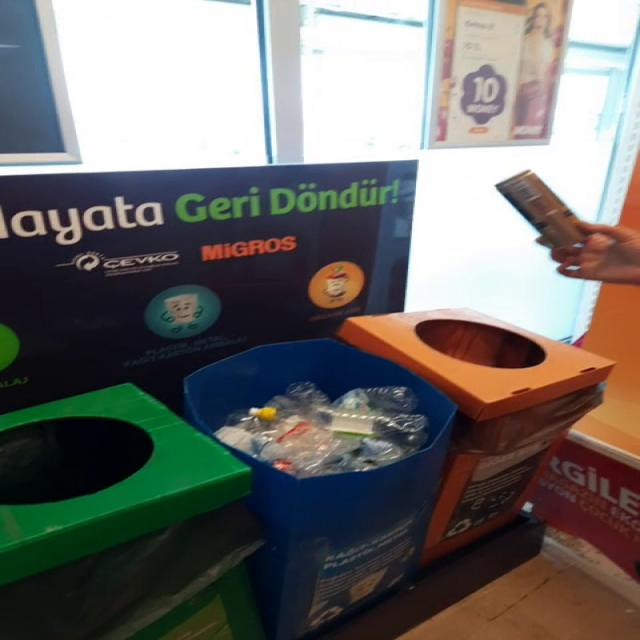metal: (496, 170, 588, 248)
